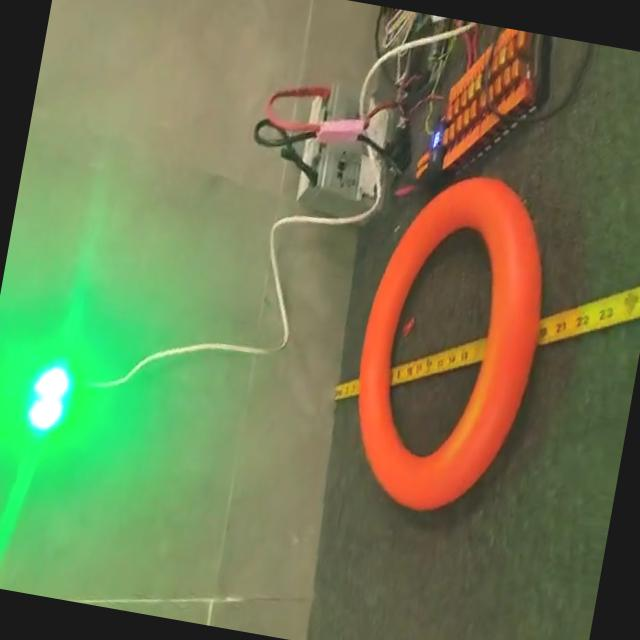note: (334, 158, 565, 526)
